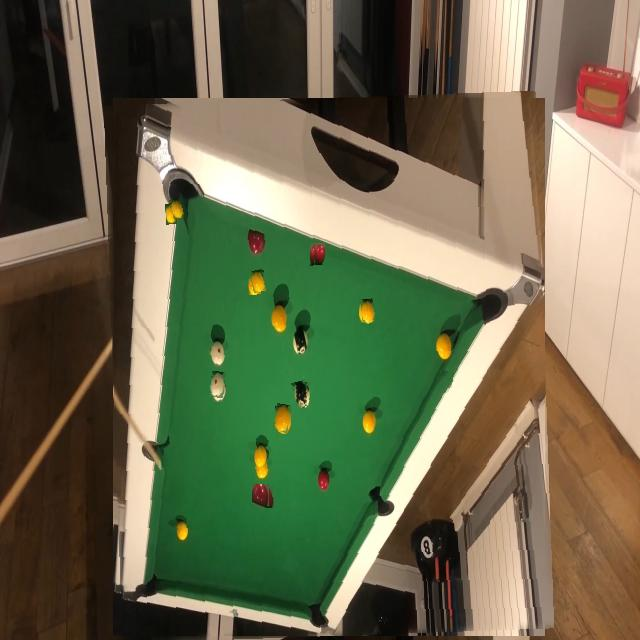Ball: (273, 404, 290, 432), (293, 380, 310, 408), (437, 370, 453, 398), (210, 372, 226, 398), (252, 484, 269, 506), (360, 300, 375, 324), (250, 270, 265, 292), (170, 198, 183, 219), (314, 243, 325, 265), (252, 258, 264, 275)
Billiard table: (108, 94, 550, 640)
